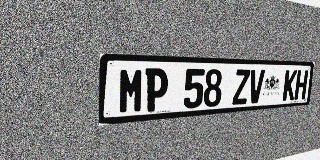5: (183, 69, 205, 109)
8: (203, 69, 223, 107)
H: (294, 70, 308, 100)
K: (282, 70, 297, 101)
M: (118, 68, 145, 114)
P: (144, 68, 169, 112)
V: (248, 69, 265, 104)
Z: (232, 69, 250, 105)
